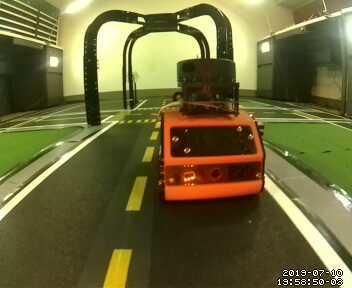pheeno: (154, 55, 268, 207)
